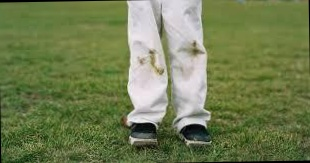earth: (189, 39, 201, 57), (148, 50, 155, 65), (156, 68, 164, 75)
